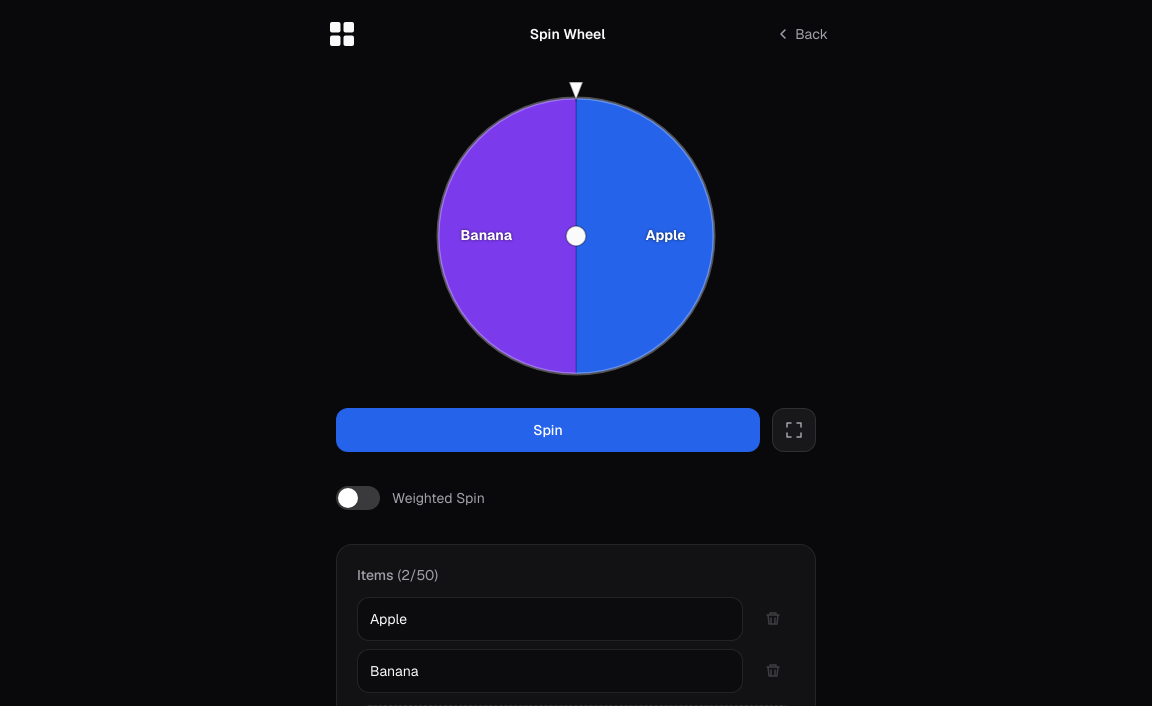
Scenario: SpinWheelTool › result card appears after spin (reduced motion) › shows result card after spin completes with reduced motion
The image size is (1152, 706).
What coordinates should you click on to do the following:
click the button with aria-label "spin the wheel"
I would click on:
 (548, 430)
Its box is [336, 408, 760, 452].
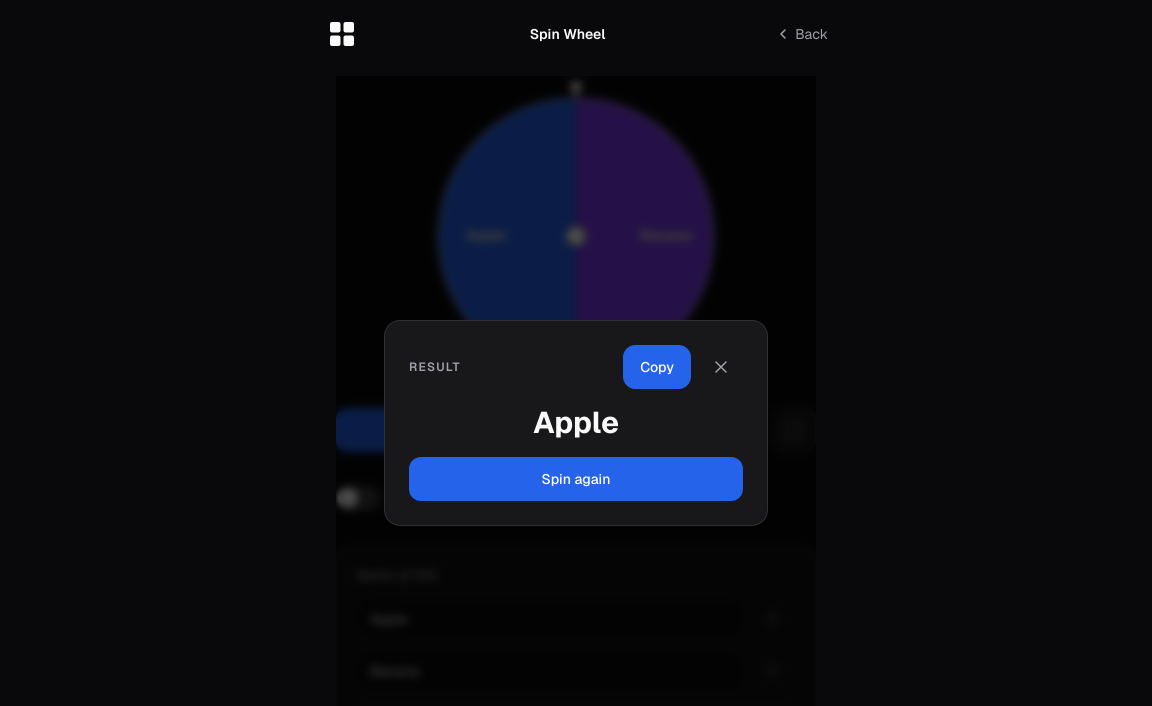
Expected: the text "Apple" is shown, [533, 403, 619, 442]
